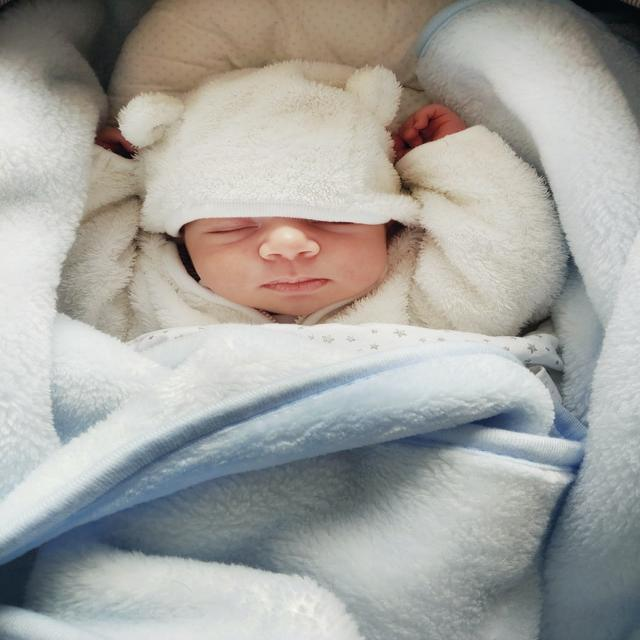non-dog: (59, 62, 569, 345)
